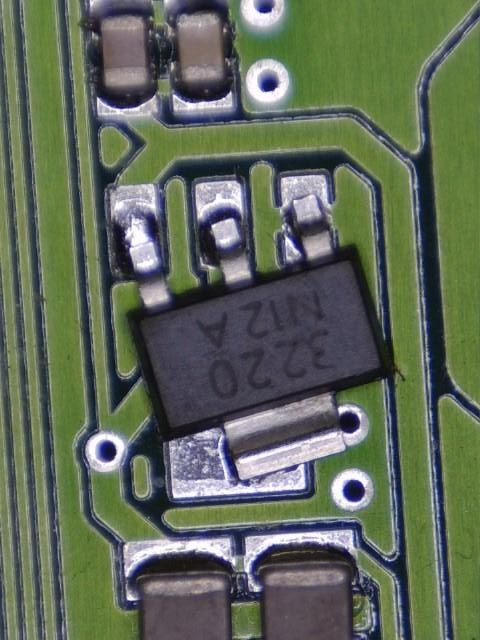pcb_defect: (107, 173, 393, 500), (169, 391, 370, 498)
